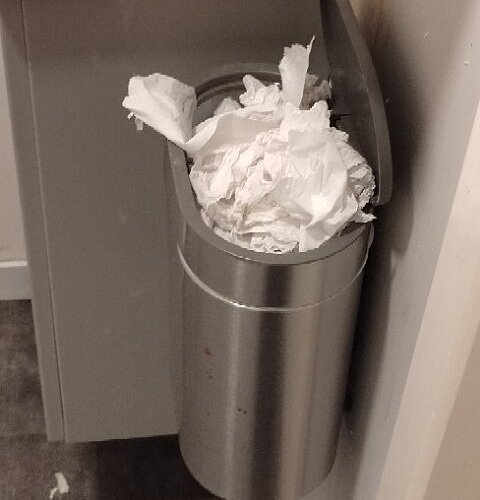bin_full: (122, 0, 391, 499)
